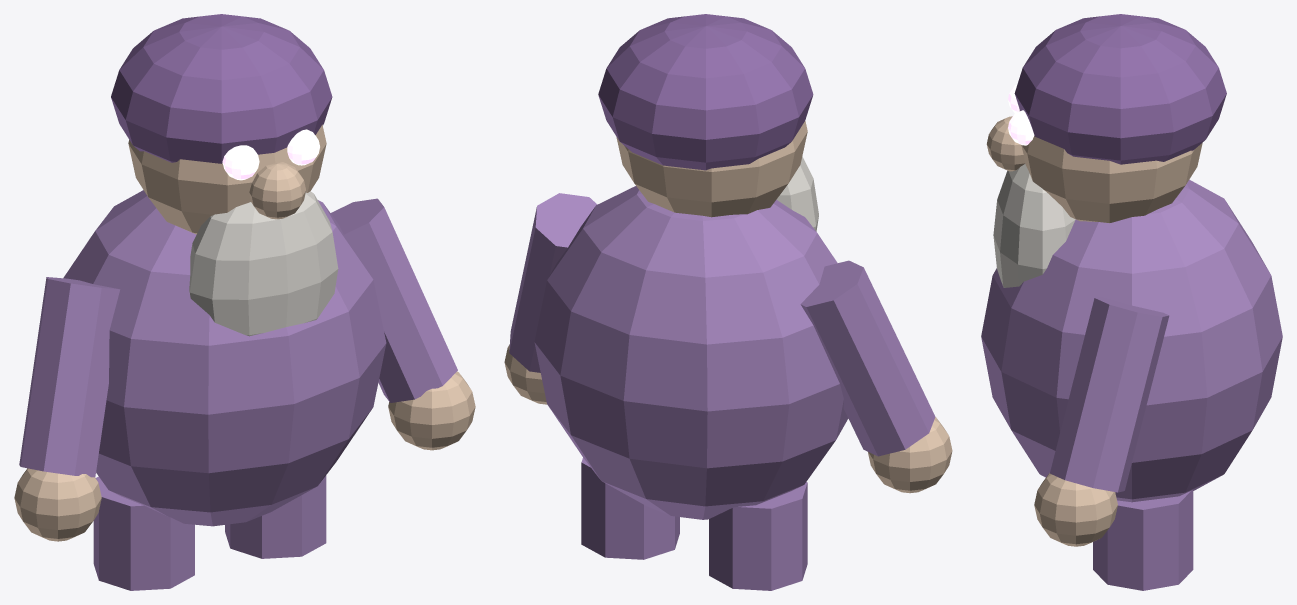
Rendered from creature_dwarf_purple.glb.
3 views of the same model, side by side, from view 1: azimuth 30°, elevation 25°; view 2: azimuth 150°, elevation 25°; view 3: azimuth 270°, elevation 25° (orthographic). The views are drawn at different scales.
Visible parts, largest first — view 1: creature_dwarf_purple; view 2: creature_dwarf_purple; view 3: creature_dwarf_purple.
Part boxes in pixels (x1,y1,x2,y2): creature_dwarf_purple: (14, 14, 475, 590); creature_dwarf_purple: (504, 14, 952, 590); creature_dwarf_purple: (981, 14, 1282, 590).
Size of the model in its own units: 0.8786 by 1 by 0.5331.
